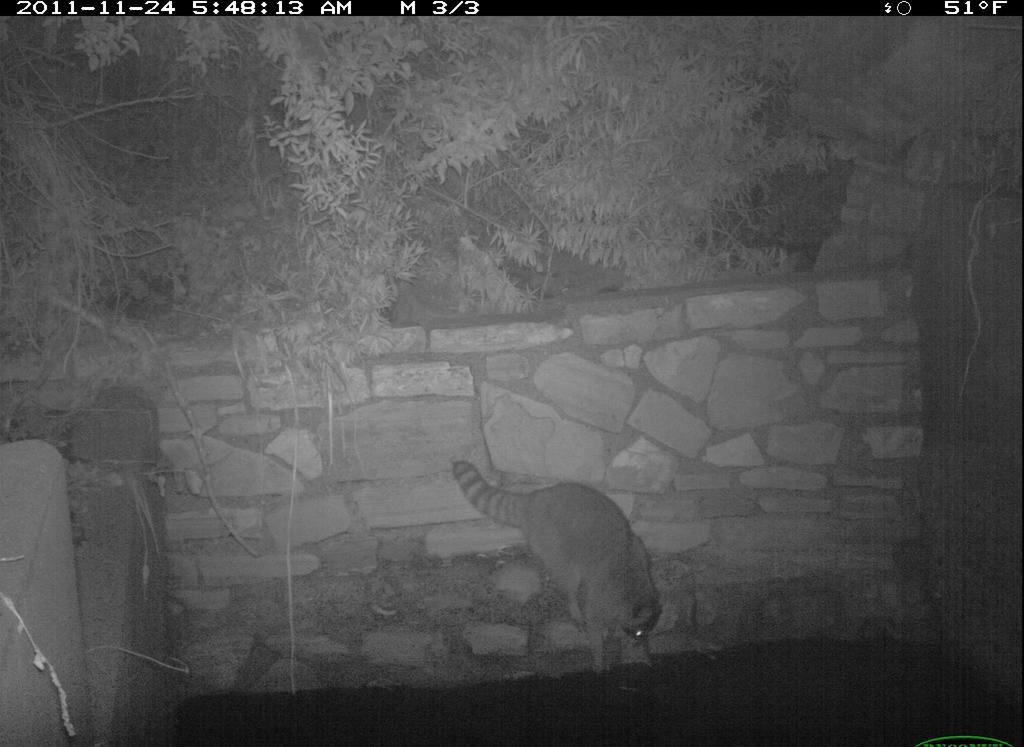raccoon: (445, 452, 673, 685)
